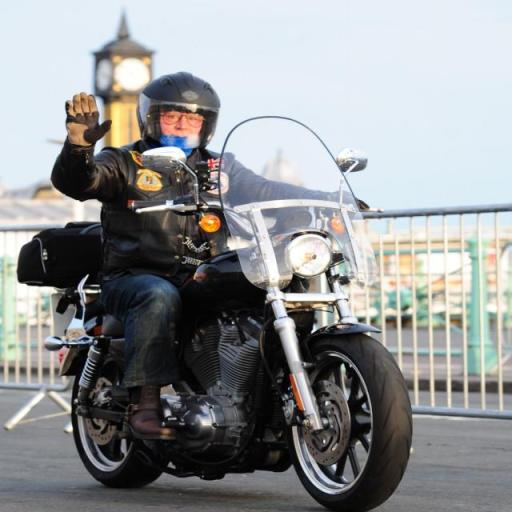Helmet: (137, 72, 219, 147)
Motor: (25, 180, 413, 506)
